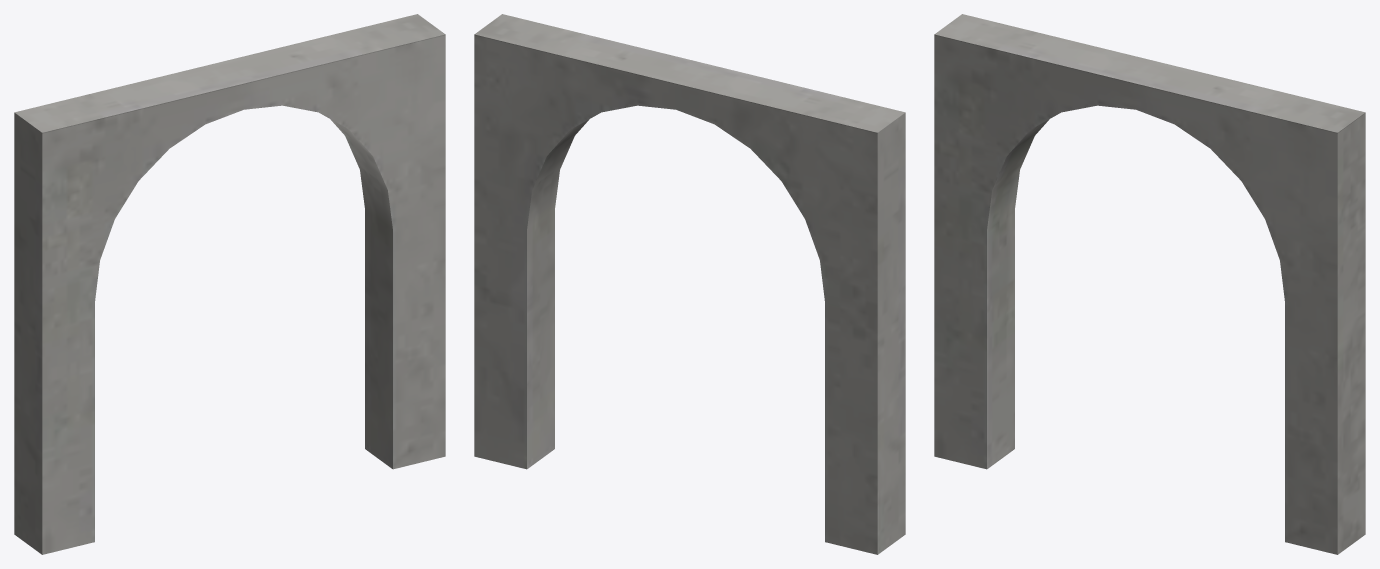
Rendered from temple-arch.glb.
The picture shows the model from 3 angles, left to right: view 1: azimuth 30°, elevation 25°; view 2: azimuth 150°, elevation 25°; view 3: azimuth 330°, elevation 25°; orthographic projection.
Parts seen in each view (by area): view 1: low; view 2: low; view 3: low.
Boxes of the visible parts, <box> form: low: <box>14,14,445,554</box>; low: <box>474,14,905,554</box>; low: <box>934,14,1365,554</box>.
Size of the model in its own units: 2 by 2 by 0.24.
1 material, 1 textured.
